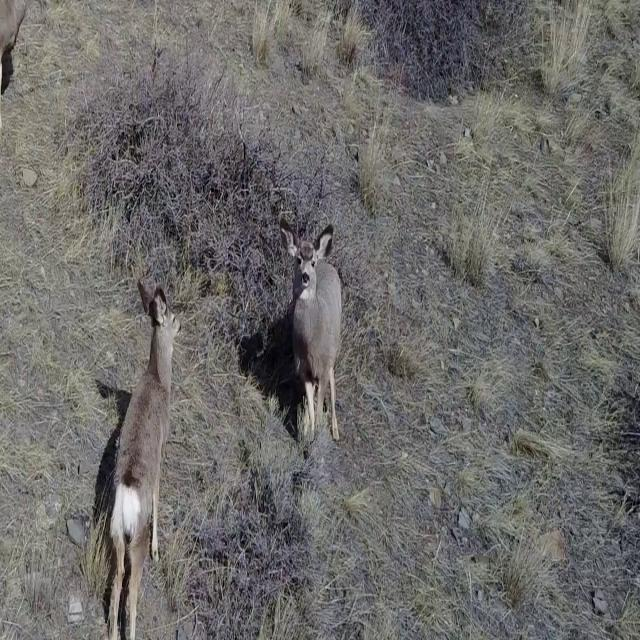Deer: (104, 284, 182, 640), (276, 211, 344, 446)
